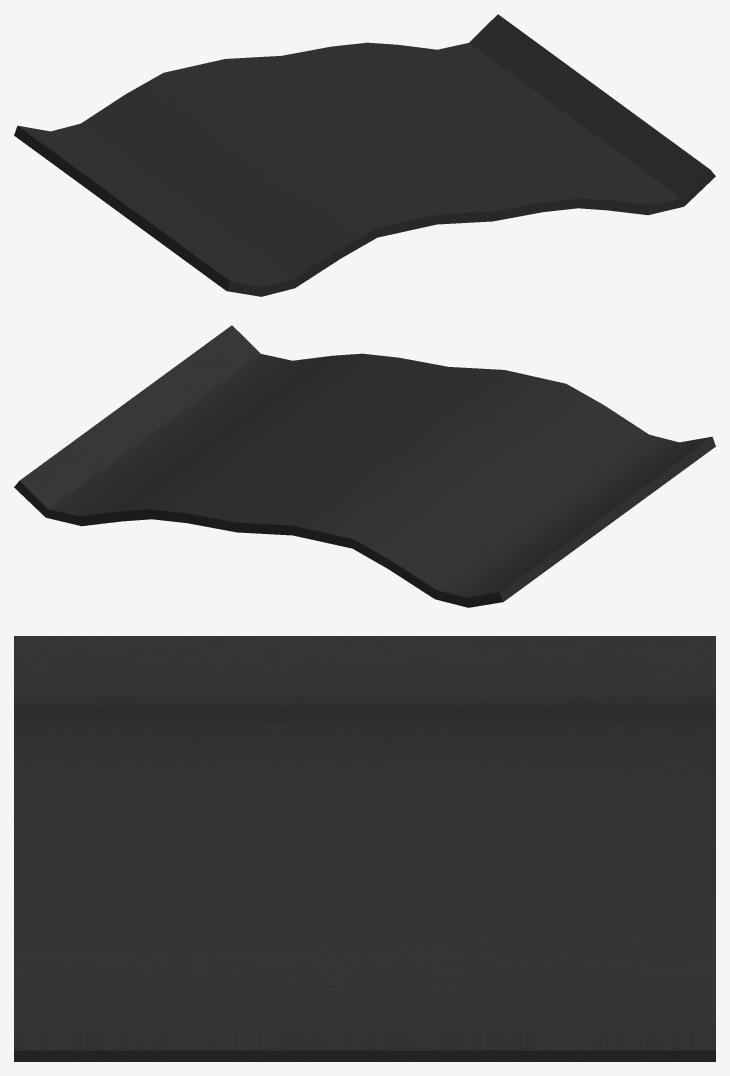
The model's file is Flat_Rear_Sight_Spring.dae.
3 views of the same model, one above another, from view 1: azimuth 30°, elevation 25°; view 2: azimuth 150°, elevation 25°; view 3: azimuth 270°, elevation 25° (orthographic). The views are drawn at different scales.
Parts seen in each view (by area): view 1: Flat_Rear_Sight_Spring; view 2: Flat_Rear_Sight_Spring; view 3: Flat_Rear_Sight_Spring.
Boxes of the visible parts, x1,y1,x2,y2 form: Flat_Rear_Sight_Spring: [14, 14, 715, 296]; Flat_Rear_Sight_Spring: [14, 325, 715, 607]; Flat_Rear_Sight_Spring: [14, 636, 715, 1061].
Bounding box in the file's own units: 0.0155 × 0.0116 × 0.00162.
Materials: 1 (1 with a texture image).
